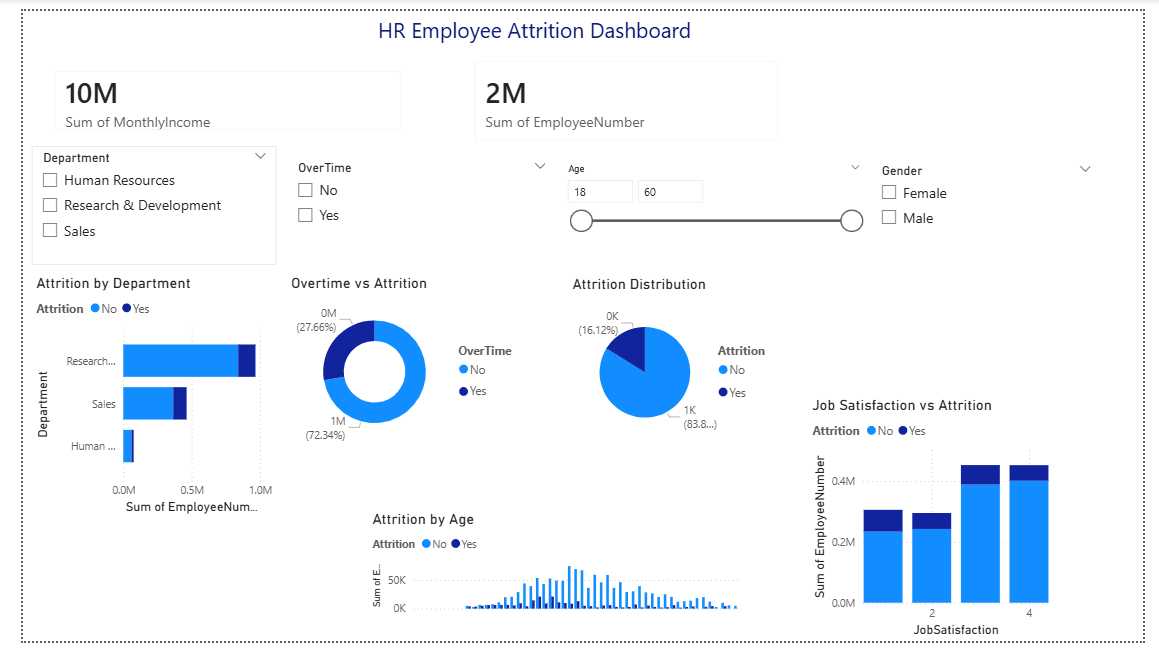

The dashboard page shown, as its layout file describes it:
{"tool":"powerbi","page":{"name":"Page 1","canvas":[1280,720],"ordinal":0},"visuals":[{"type":"pieChart","title":"Attrition Distribution","fields":{"Category":["WA_Fn-UseC_-HR-Employee-Attrition.Attrition"],"Y":["Sum(WA_Fn-UseC_-HR-Employee-Attrition.EmployeeCount)"]},"box":[622.9,301.4,247.1,204.3],"z":0},{"type":"barChart","title":"Attrition by Department","fields":{"Category":["WA_Fn-UseC_-HR-Employee-Attrition.Department"],"Y":["Sum(WA_Fn-UseC_-HR-Employee-Attrition.EmployeeNumber)"],"Series":["WA_Fn-UseC_-HR-Employee-Attrition.Attrition"]},"box":[10,300,280,280],"z":1},{"type":"donutChart","title":"Overtime vs Attrition","fields":{"Category":["WA_Fn-UseC_-HR-Employee-Attrition.OverTime"],"Y":["Sum(WA_Fn-UseC_-HR-Employee-Attrition.EmployeeNumber)"]},"box":[301.4,300,280,205.7],"z":3},{"type":"columnChart","title":"Job Satisfaction vs Attrition","fields":{"Category":["WA_Fn-UseC_-HR-Employee-Attrition.JobSatisfaction"],"Y":["Sum(WA_Fn-UseC_-HR-Employee-Attrition.EmployeeNumber)"],"Series":["WA_Fn-UseC_-HR-Employee-Attrition.Attrition"]},"box":[897.1,440,280,280],"z":4},{"type":"slicer","fields":{"Values":["WA_Fn-UseC_-HR-Employee-Attrition.Department"]},"box":[10,154.3,280,135.7],"z":5},{"type":"slicer","fields":{"Values":["WA_Fn-UseC_-HR-Employee-Attrition.Age"]},"box":[610,168.6,358.6,121.4],"z":6},{"type":"slicer","fields":{"Values":["WA_Fn-UseC_-HR-Employee-Attrition.Gender"]},"box":[968.6,168.6,264.3,98.6],"z":7},{"type":"slicer","fields":{"Values":["WA_Fn-UseC_-HR-Employee-Attrition.OverTime"]},"box":[301.4,165.7,308.6,94.3],"z":8},{"type":"clusteredColumnChart","title":"Attrition by Age","fields":{"Category":["WA_Fn-UseC_-HR-Employee-Attrition.Age"],"Y":["Sum(WA_Fn-UseC_-HR-Employee-Attrition.EmployeeNumber)"],"Series":["WA_Fn-UseC_-HR-Employee-Attrition.Attrition"]},"box":[394.3,570,430,127.1],"z":9},{"type":"cardVisual","fields":{"Data":["Sum(WA_Fn-UseC_-HR-Employee-Attrition.EmployeeNumber)"]},"box":[498.8,40,381.2,126.2],"z":10},{"type":"cardVisual","fields":{"Data":["Sum(WA_Fn-UseC_-HR-Employee-Attrition.MonthlyIncome)"]},"box":[18.8,51.2,431.2,102.5],"z":12},{"type":"textbox","box":[336,0,450,54],"z":13}]}

Visuals, with their boxes in screenshot pixels (x1, y1, x2, y2), scaled from the page's 1280x720 canvas onto the 1159x657 screenshot:
"Attrition Distribution" pieChart: bbox(564, 275, 788, 461)
"Attrition by Department" barChart: bbox(9, 274, 263, 529)
"Overtime vs Attrition" donutChart: bbox(273, 274, 526, 461)
"Job Satisfaction vs Attrition" columnChart: bbox(812, 402, 1066, 656)
slicer - WA_Fn-UseC_-HR-Employee-Attrition.Department: bbox(9, 141, 263, 265)
slicer - WA_Fn-UseC_-HR-Employee-Attrition.Age: bbox(552, 154, 877, 265)
slicer - WA_Fn-UseC_-HR-Employee-Attrition.Gender: bbox(877, 154, 1116, 244)
slicer - WA_Fn-UseC_-HR-Employee-Attrition.OverTime: bbox(273, 151, 552, 237)
"Attrition by Age" clusteredColumnChart: bbox(357, 520, 746, 636)
cardVisual - Sum(WA_Fn-UseC_-HR-Employee-Attrition.EmployeeNumber): bbox(452, 36, 797, 152)
cardVisual - Sum(WA_Fn-UseC_-HR-Employee-Attrition.MonthlyIncome): bbox(17, 47, 407, 140)
textbox: bbox(304, 0, 712, 49)
